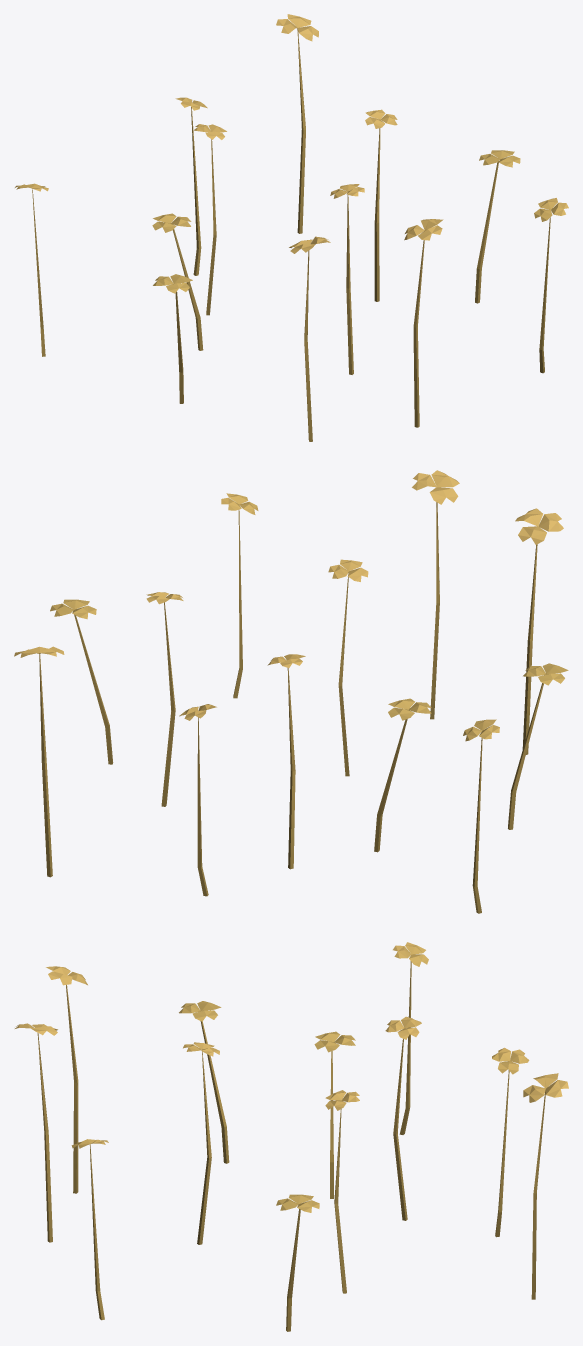
Rendered from clover.glb.
3 renders of one model, top to bottom at view 1: azimuth 30°, elevation 25°; view 2: azimuth 150°, elevation 25°; view 3: azimuth 270°, elevation 25°, orthographic. The views are drawn at different scales.
Parts seen in each view (by area): view 1: Clover_1_2_A; view 2: Clover_1_2_A; view 3: Clover_1_2_A.
Part boxes in pixels (<box>): Clover_1_2_A: <box>15,14,568,441</box>; Clover_1_2_A: <box>14,470,568,913</box>; Clover_1_2_A: <box>15,942,568,1331</box>.
Size of the model in its own units: 0.3384 by 0.15 by 0.3426.
Materials: 1 (1 with a texture image).
